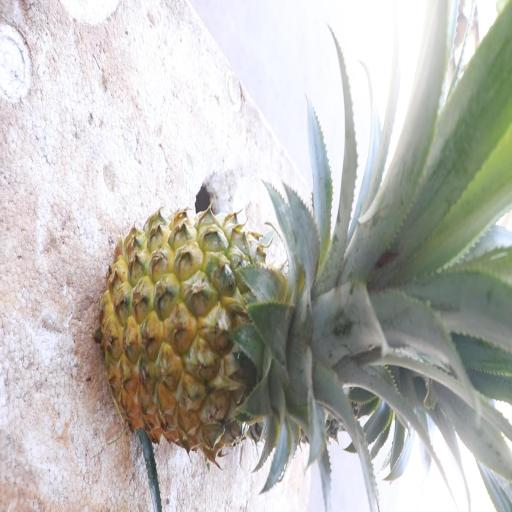Pineapple - v8 v1: (94, 198, 375, 469)
